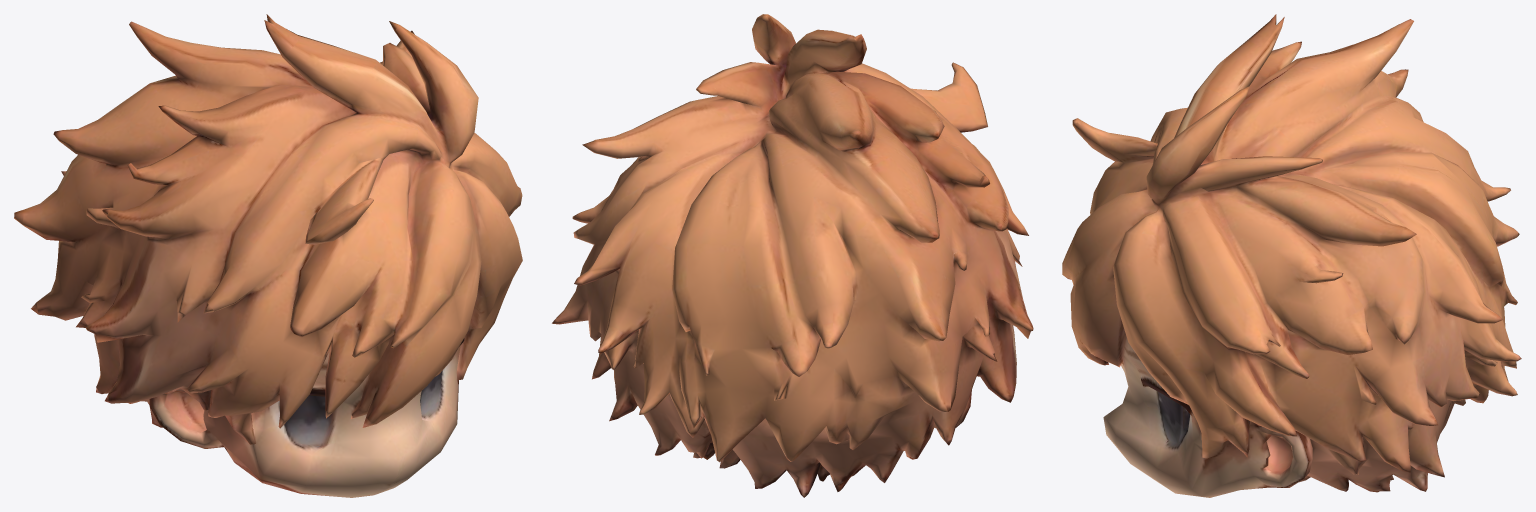
3 views of the same model, side by side, from view 1: azimuth 30°, elevation 25°; view 2: azimuth 150°, elevation 25°; view 3: azimuth 270°, elevation 25° (orthographic). The views are drawn at different scales.
Parts seen in each view (by area): view 1: tripo_node_b800f093-7315-4a2d-a017-9d16d308711a; view 2: tripo_node_b800f093-7315-4a2d-a017-9d16d308711a; view 3: tripo_node_b800f093-7315-4a2d-a017-9d16d308711a.
Boxes of the visible parts, x1,y1,x2,y2 form: tripo_node_b800f093-7315-4a2d-a017-9d16d308711a: (14,14,522,497); tripo_node_b800f093-7315-4a2d-a017-9d16d308711a: (552,14,1033,497); tripo_node_b800f093-7315-4a2d-a017-9d16d308711a: (1062,14,1521,497).
Size of the model in its own units: 0.4189 by 0.4124 by 0.3927.
Materials: 1 (1 with a texture image).
